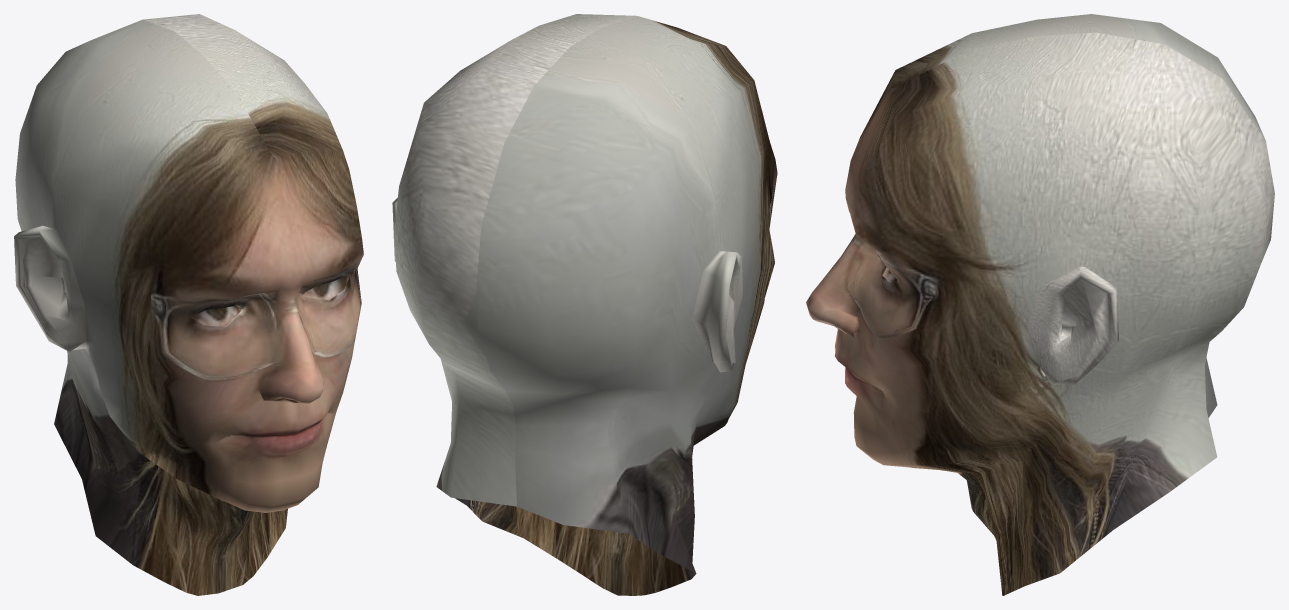
File: the horrors.glb
3 renders of one model, left to right at view 1: azimuth 30°, elevation 25°; view 2: azimuth 150°, elevation 25°; view 3: azimuth 270°, elevation 25°, orthographic. The views are drawn at different scales.
Visible parts, largest first — view 1: head; view 2: head; view 3: head.
Boxes of the visible parts, x1,y1,x2,y2 form: head: (14,14,363,595); head: (392,14,777,595); head: (806,14,1274,595).
Size of the model in its own units: 2.14 by 3.53 by 2.7.
1 material, 1 textured.
